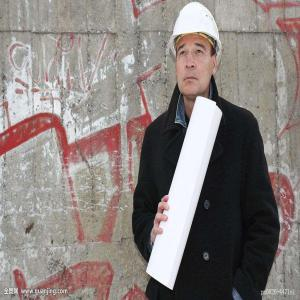white: (171, 3, 222, 98)
